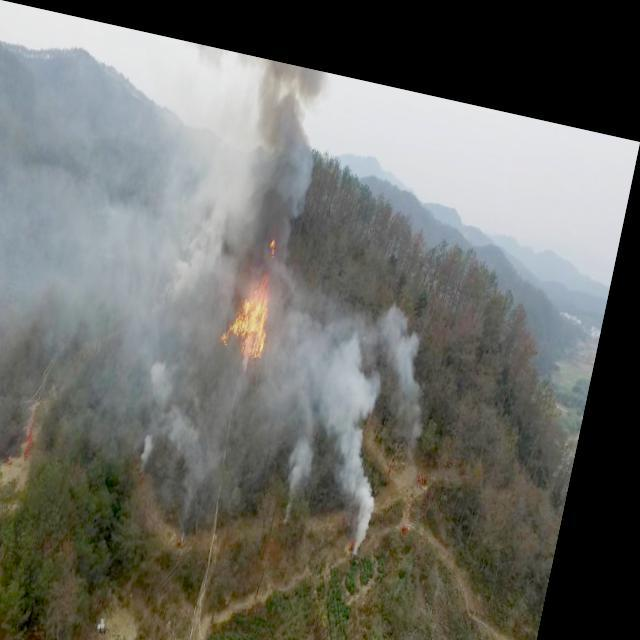Fire: (204, 188, 328, 374)
